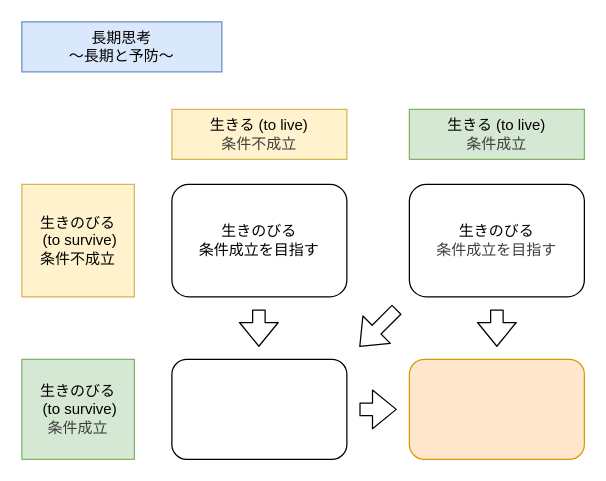
This 606x481 diagram has some shape labels left out. The box of each missing label's shape, as (x1, y1, x2, y2) in pixels:
生きる 善い生きるを目指す: (408, 358, 584, 459)
生きる 条件成立を目指す: (171, 358, 347, 459)
